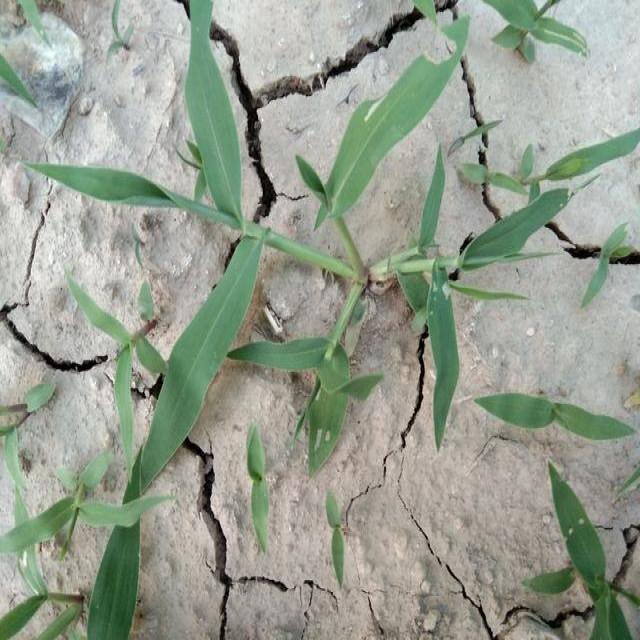weed: (156, 11, 526, 354), (8, 150, 400, 472), (0, 457, 157, 640), (534, 454, 640, 628), (472, 386, 634, 457), (485, 0, 588, 61), (574, 233, 623, 323), (248, 417, 270, 552), (560, 132, 640, 168), (326, 492, 354, 588)
